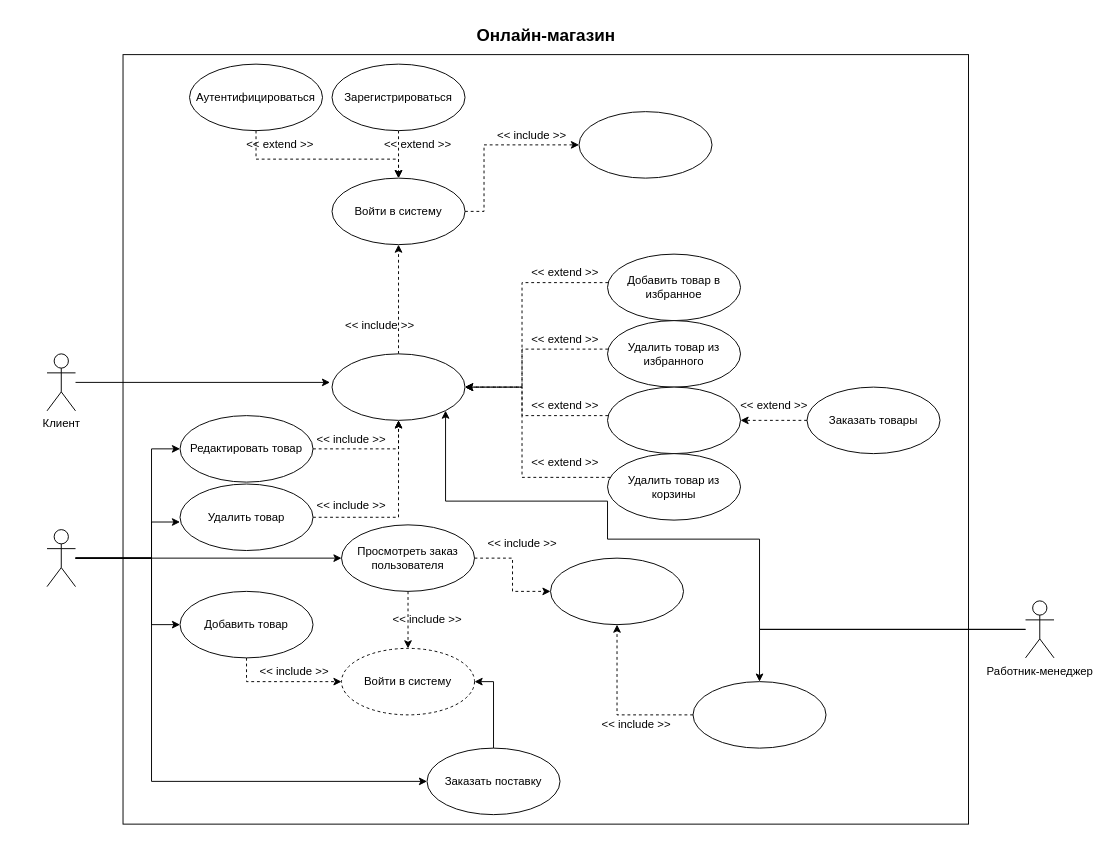
This 1109x841 diagram has some shape labels left out. Here are the shapes that lost their labels. From the top down, the centre of each, then its label:
At pixel 645 144: "Авторизоваться".
At pixel 398 386: "Просмотреть товары".
At pixel 674 420: "Добавить товар в корзину".
At pixel 61 558: "Работник склада".
At pixel 617 591: "Просмотреть заказы".
At pixel 759 714: "Составить отчет по продажам".
